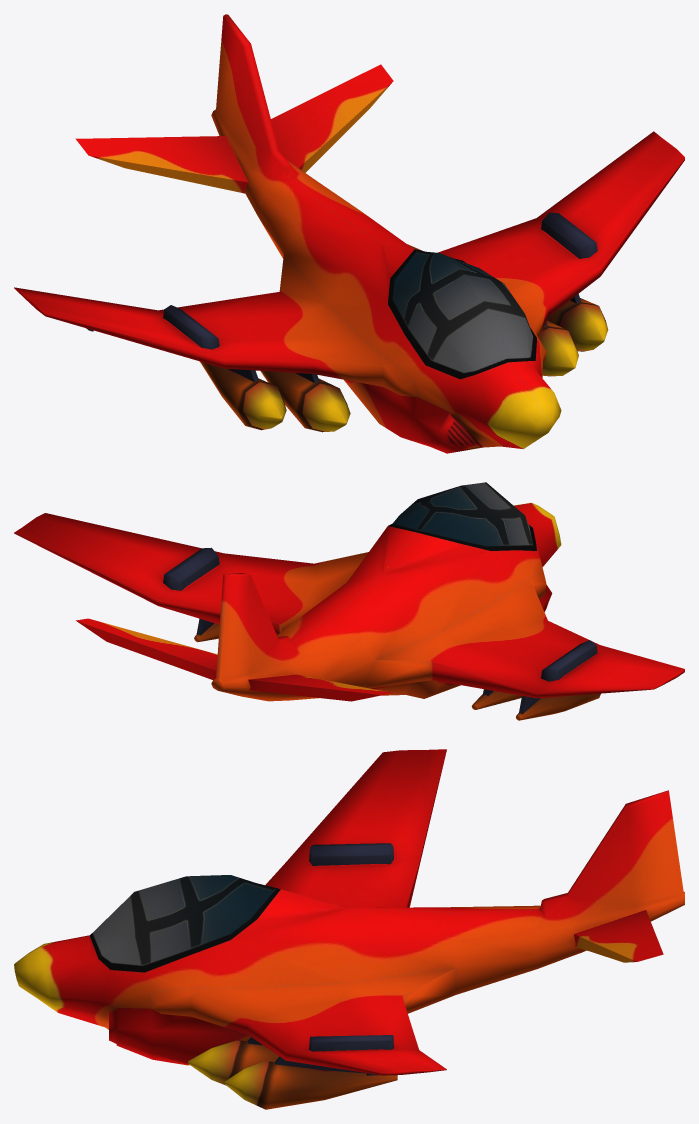
3 renders of one model, top to bottom at view 1: azimuth 30°, elevation 25°; view 2: azimuth 150°, elevation 25°; view 3: azimuth 270°, elevation 25°, orthographic. The views are drawn at different scales.
Visible parts, largest first — view 1: Catoon_AH64; view 2: Catoon_AH64; view 3: Catoon_AH64.
Boxes of the visible parts, x1,y1,x2,y2 form: Catoon_AH64: (14, 14, 684, 453); Catoon_AH64: (14, 482, 684, 720); Catoon_AH64: (14, 749, 684, 1109).
Size of the model in its own units: 79.59 by 30.43 by 70.43.
1 material, 1 textured.
